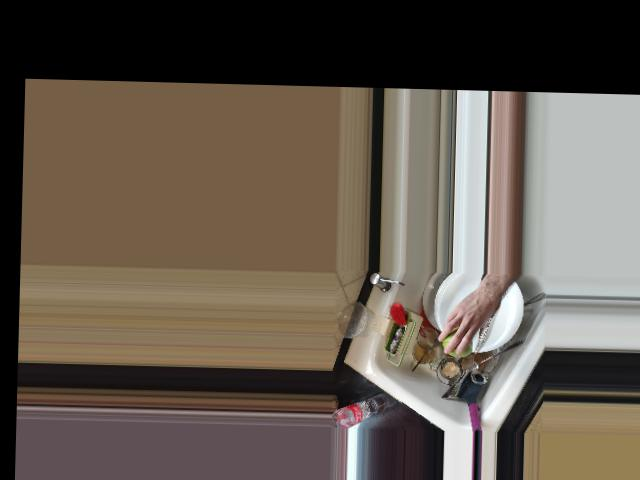apple: (442, 324, 475, 357)
